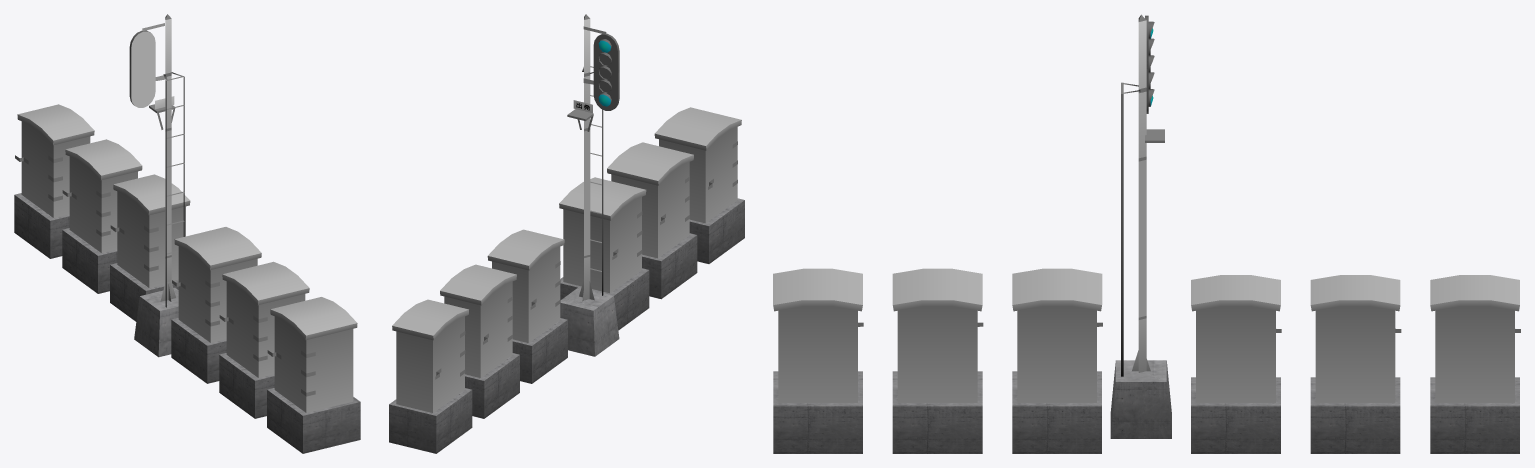
Rendered from SIGNAL_NORM_AMB.glb.
The picture shows the model from 3 angles, left to right: view 1: azimuth 30°, elevation 25°; view 2: azimuth 150°, elevation 25°; view 3: azimuth 270°, elevation 25°; orthographic projection. The views are drawn at different scales.
Parts seen in each view (by area): view 1: box, box1, body, signal, signal_big; view 2: box1, box, body, signal, signal_big; view 3: box, box1, body.
Part boxes in pixels (box(x1,y1,x2,y2)): box: box(171, 227, 360, 453); box1: box(14, 104, 190, 321); body: box(134, 14, 184, 357); signal: box(129, 30, 155, 80); signal_big: box(129, 43, 155, 107); box1: box(389, 229, 567, 453); box: box(559, 107, 744, 330); body: box(560, 14, 619, 356); signal: box(593, 33, 619, 84); signal_big: box(593, 47, 619, 110); box: box(773, 268, 1102, 453); box1: box(1191, 275, 1520, 453); body: box(1110, 14, 1171, 438).
Size of the model in its own units: 4.38 by 17.08 by 28.13.
12 materials, 12 textured.
